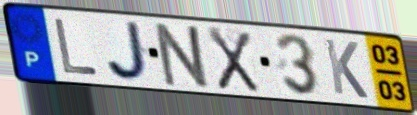3: (273, 32, 323, 98)
J: (104, 19, 153, 84)
K: (321, 36, 371, 101)
L: (52, 16, 102, 78)
N: (153, 21, 214, 91)
X: (205, 24, 261, 95)
